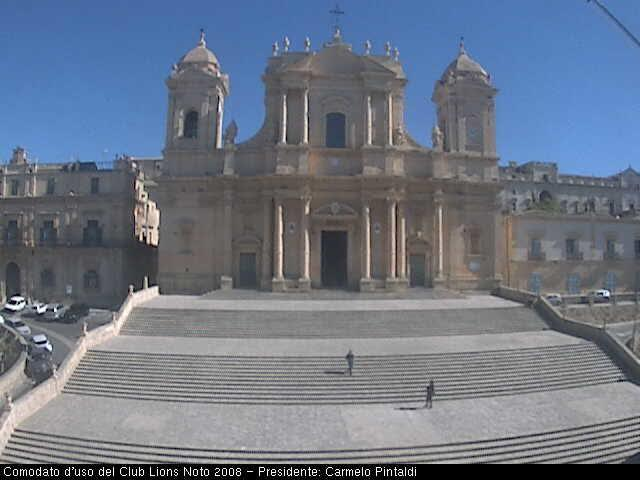person: (423, 379, 439, 413), (344, 348, 357, 376)
